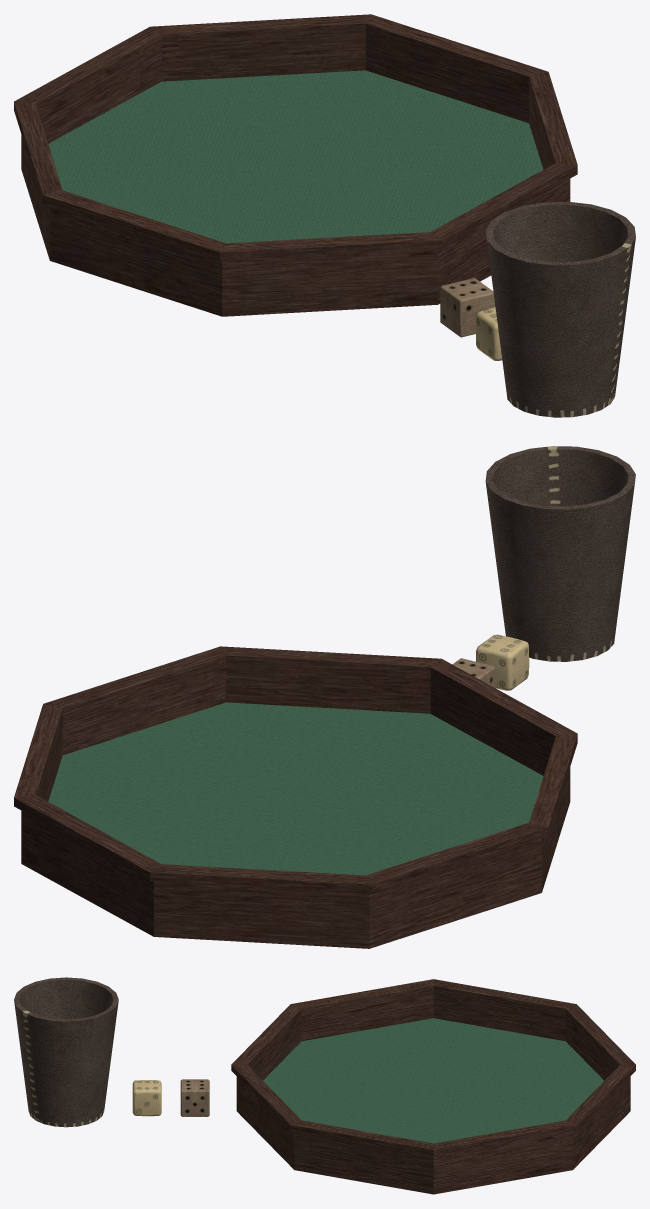
Rendered from dice_game.glb.
The picture shows the model from 3 angles, top to bottom: view 1: azimuth 30°, elevation 25°; view 2: azimuth 150°, elevation 25°; view 3: azimuth 270°, elevation 25°; orthographic projection. The views are drawn at different scales.
Parts seen in each view (by area): view 1: pCylinder2, pCylinder1, polySurface1, polySurface2; view 2: pCylinder2, pCylinder1, polySurface2; view 3: pCylinder2, pCylinder1, polySurface1, polySurface2.
Boxes of the visible parts, left/top/right/bottom form: pCylinder2: left=14, top=14, right=577, bottom=316; pCylinder1: left=485, top=201, right=635, bottom=417; polySurface1: left=440, top=278, right=495, bottom=337; polySurface2: left=475, top=307, right=502, bottom=360; pCylinder2: left=14, top=646, right=577, bottom=948; pCylinder1: left=485, top=446, right=635, bottom=661; polySurface2: left=476, top=634, right=529, bottom=690; pCylinder2: left=231, top=979, right=635, bottom=1194; pCylinder1: left=14, top=977, right=118, bottom=1127; polySurface1: left=180, top=1079, right=209, bottom=1116; polySurface2: left=132, top=1080, right=161, bottom=1116.
Bounding box in the file's own units: 139 × 42.39 × 214.
Materials: 1 (1 with a texture image).
